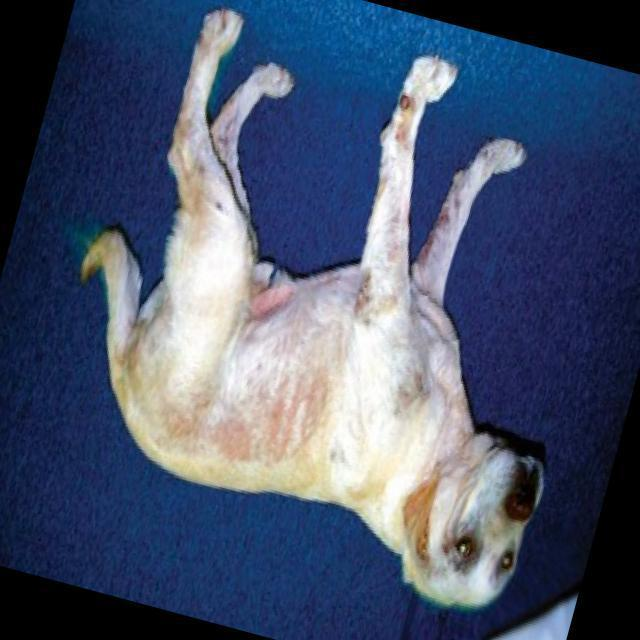allergic dermatitis: (275, 383, 319, 460), (196, 414, 259, 467), (248, 290, 300, 325)
